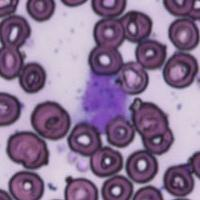M: (76, 67, 129, 135)
